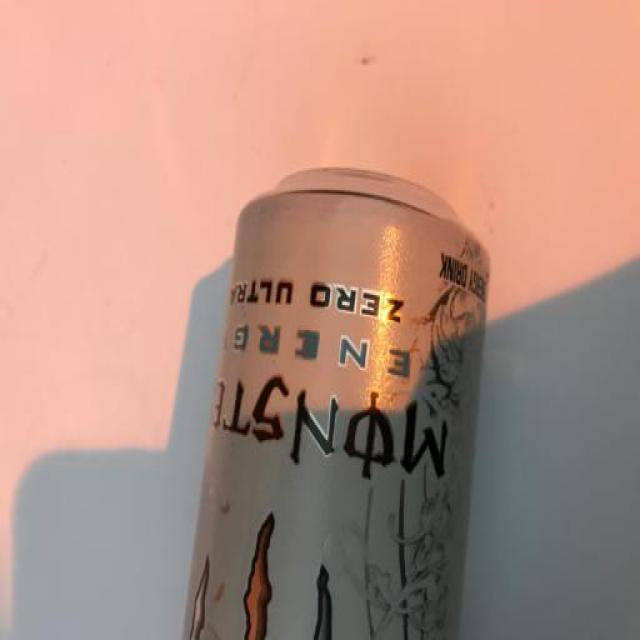metel: (185, 156, 512, 640)
